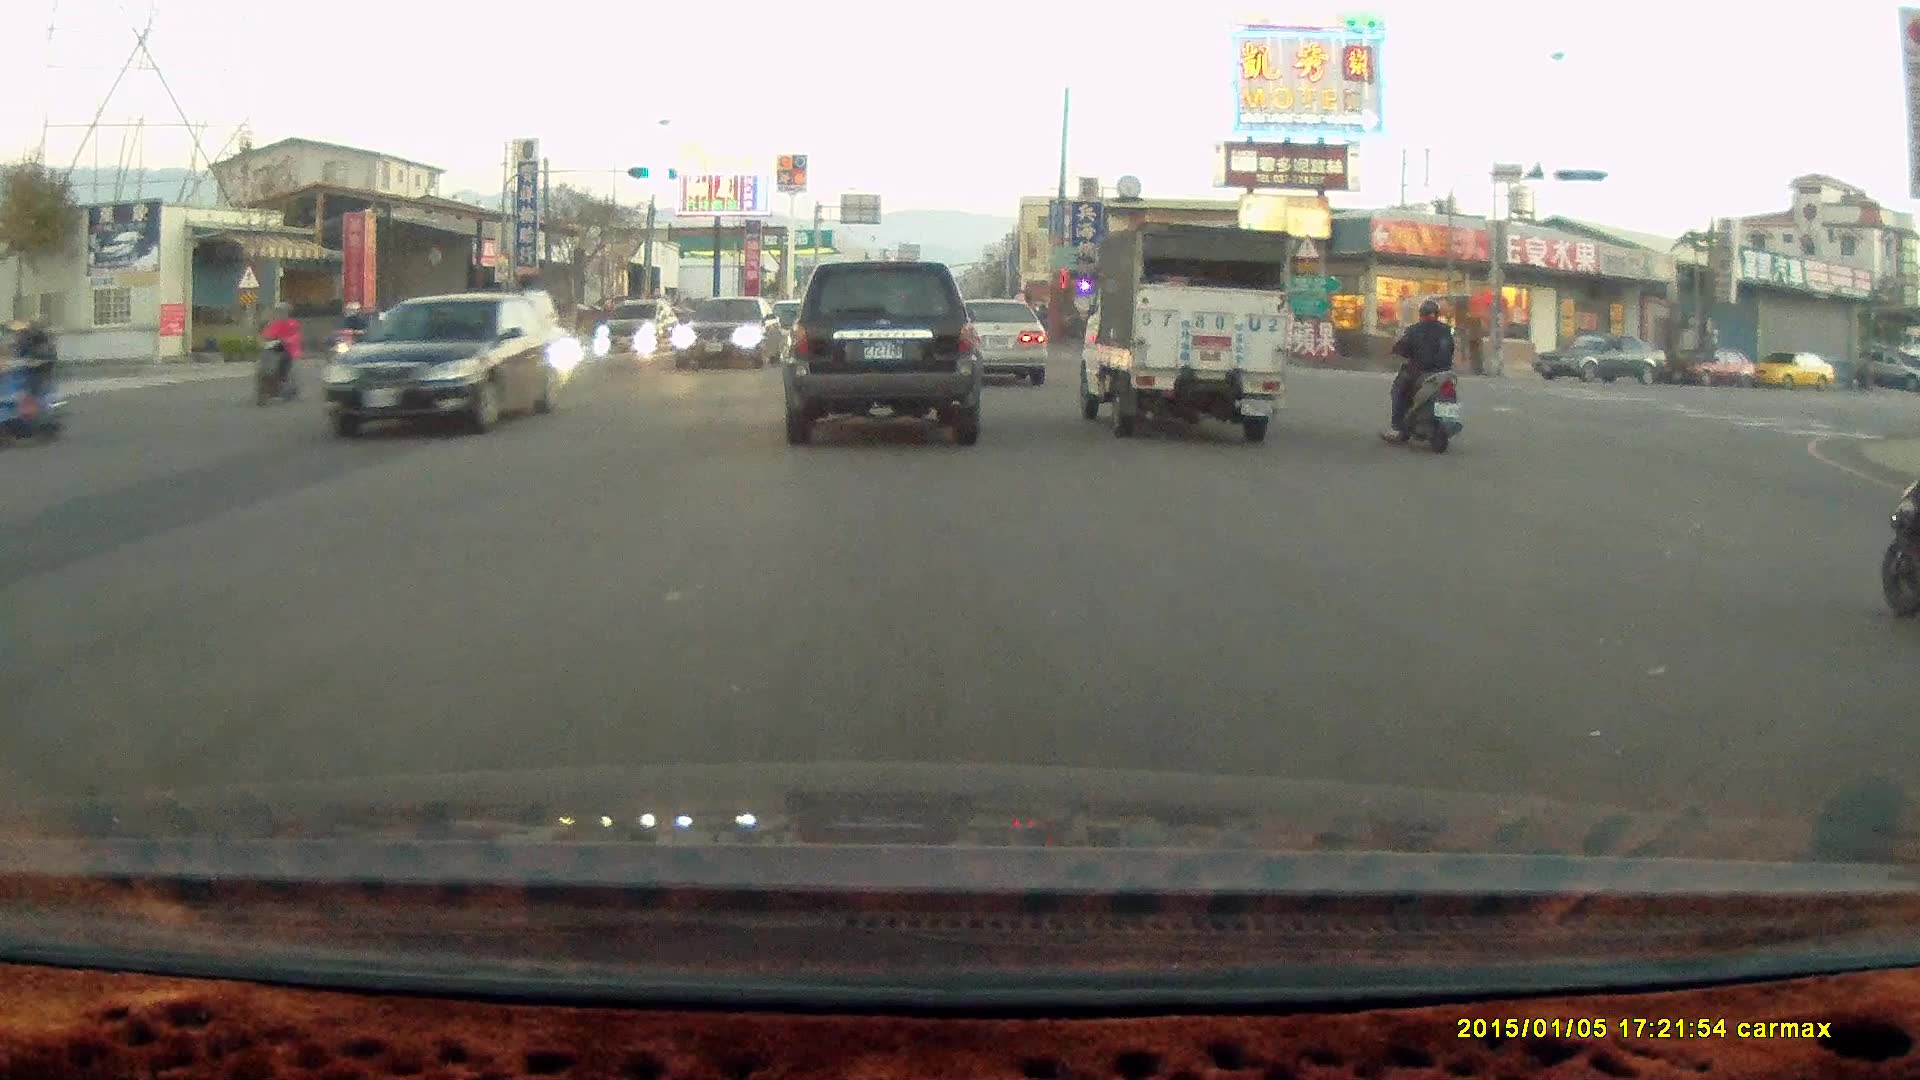rider: (1382, 296, 1463, 454), (0, 315, 74, 448), (1874, 461, 1920, 615), (250, 302, 308, 401), (327, 299, 377, 387)
vehicle: (1069, 218, 1293, 441), (317, 287, 574, 443), (779, 257, 982, 447), (934, 293, 1049, 387), (951, 298, 1051, 389), (673, 295, 787, 371), (1533, 331, 1673, 386), (373, 295, 477, 341), (600, 296, 675, 353), (1670, 347, 1760, 389), (1749, 352, 1838, 392)
